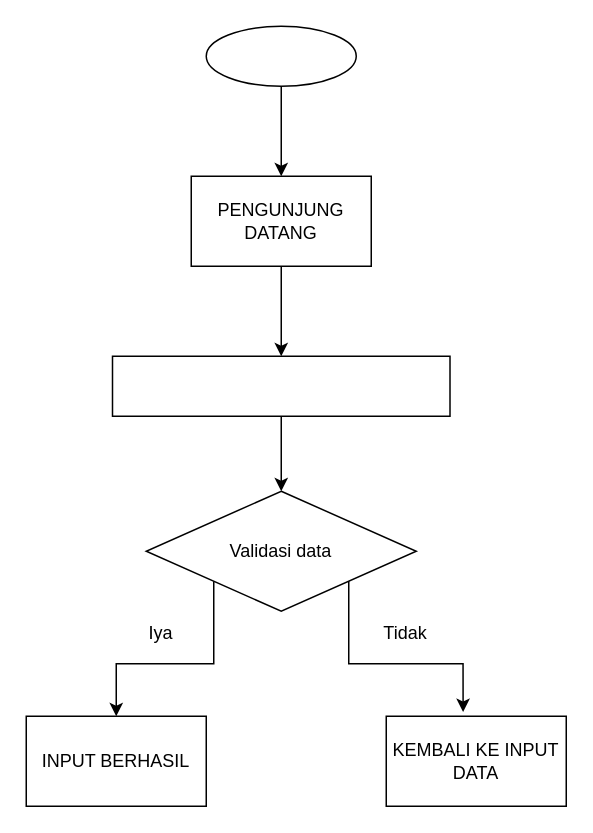
This 593x833 diagram has some shape labels left out. Here are the shapes that lost their labels. From the top down, the box of each, then its label:
(205, 25, 356, 86): START
(111, 355, 450, 416): INPUT DATA PENGUNJUNG tgl_masuk,nama_mhs,nim,keperluan
